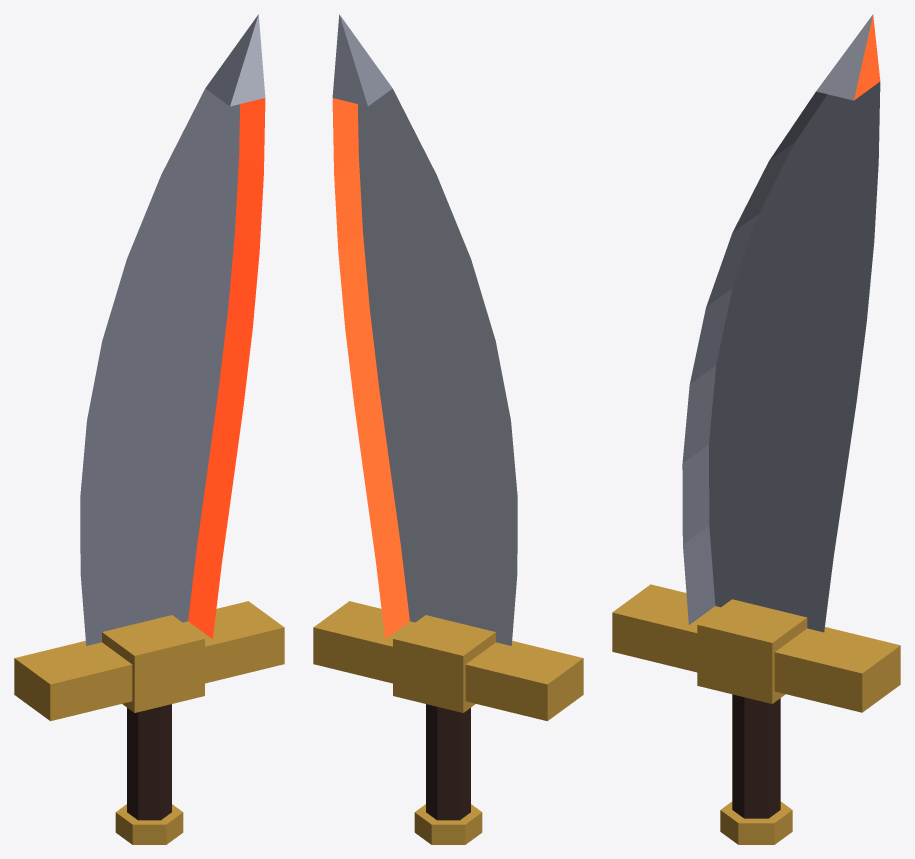
Rendered from w_item_bladeRed.glb.
The picture shows the model from 3 angles, left to right: view 1: azimuth 30°, elevation 25°; view 2: azimuth 150°, elevation 25°; view 3: azimuth 330°, elevation 25°; orthographic projection. The views are drawn at different scales.
Visible parts, largest first — view 1: w_bladeRed; view 2: w_bladeRed; view 3: w_bladeRed.
Part boxes in pixels (left/top/right/bottom): w_bladeRed: left=14, top=14, right=284, bottom=844; w_bladeRed: left=313, top=14, right=583, bottom=844; w_bladeRed: left=612, top=14, right=900, bottom=844.
Size of the model in its own units: 0.6 by 1.94 by 0.18.
Materials: 1 (1 with a texture image).
